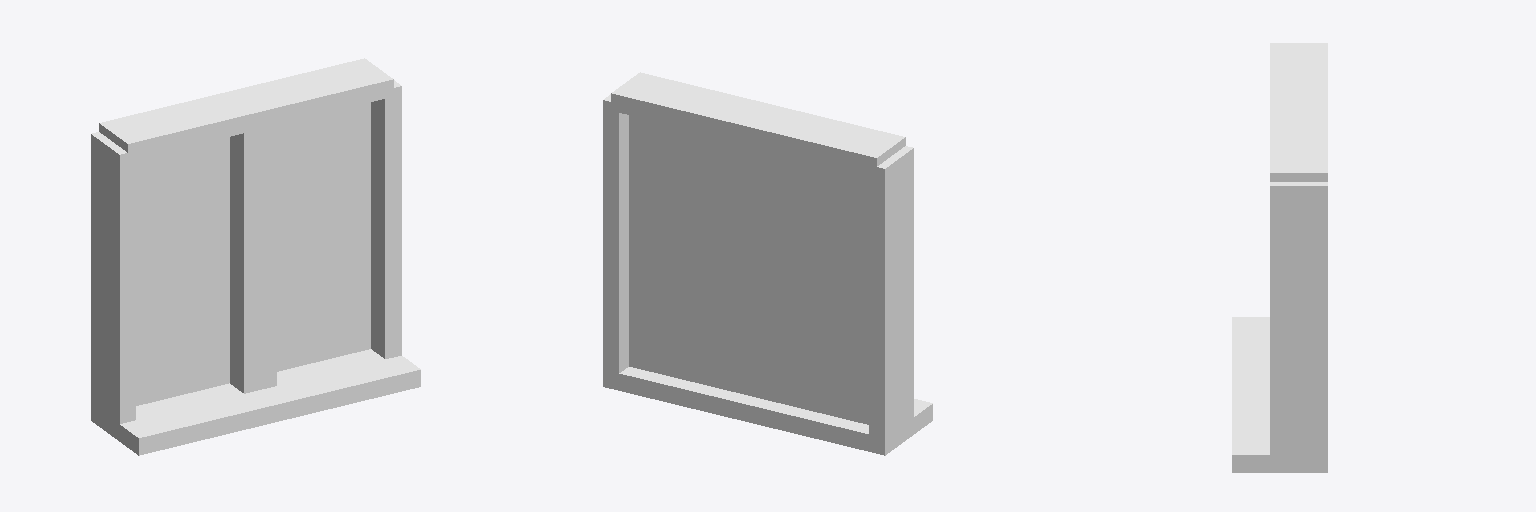
Rendered from ModelsFedaHome-0.obj.
3 renders of one model, left to right at view 1: azimuth 30°, elevation 25°; view 2: azimuth 150°, elevation 25°; view 3: azimuth 270°, elevation 25°, orthographic.
Parts seen in each view (by area): view 1: object 1; view 2: object 1; view 3: object 1.
Boxes of the visible parts, box(x1,y1,x2,y2) form: object 1: box(91, 58, 420, 455); object 1: box(603, 72, 932, 455); object 1: box(1232, 43, 1327, 472).
Bounding box in the file's own units: 3.4 × 3.4 × 1.